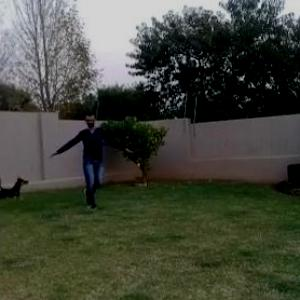land: (57, 107, 140, 205)
